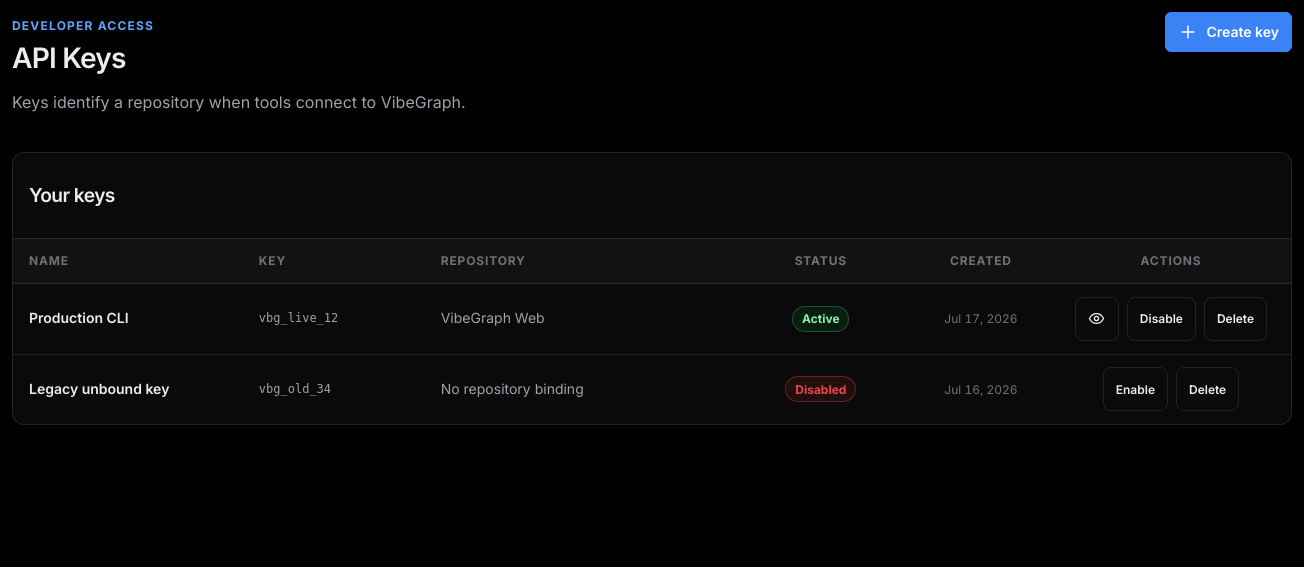
Test case: ApiKeysView › shows reveal failures beside the action that failed
Click the button with test id "reveal-key-key-1" at (1097, 319), box [1075, 297, 1119, 341]
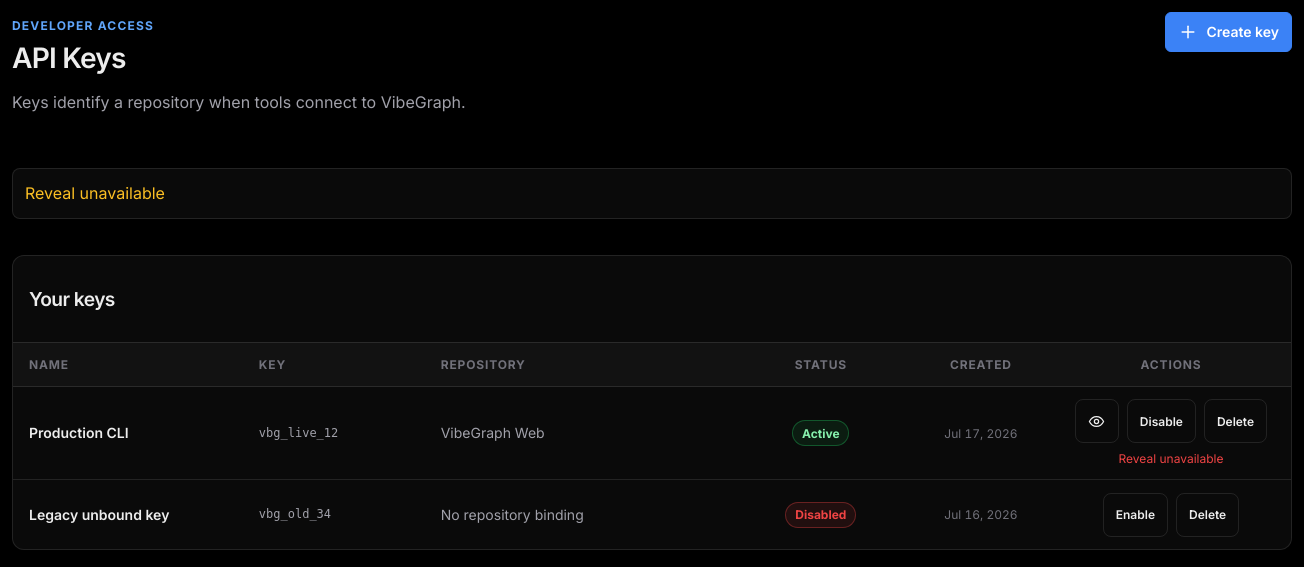
Expected: the message with class "key-action-error" reads "Reveal unavailable", [1118, 451, 1223, 466]
